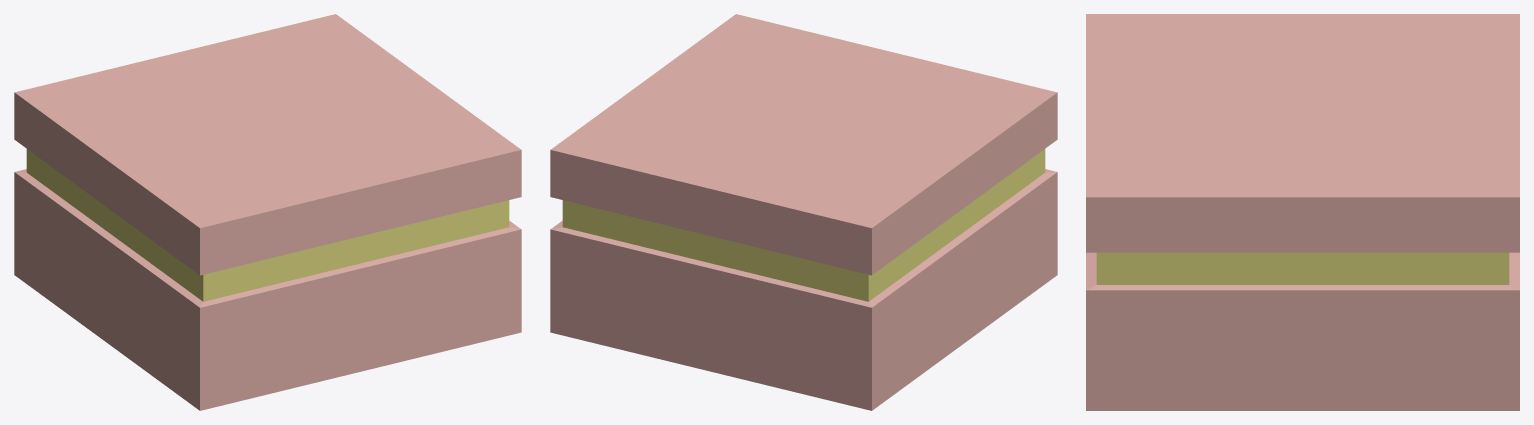
File: RepairPlatform.fbx
3 renders of one model, left to right at view 1: azimuth 30°, elevation 25°; view 2: azimuth 150°, elevation 25°; view 3: azimuth 270°, elevation 25°, orthographic. The views are drawn at different scales.
Parts seen in each view (by area): view 1: Cube.009; view 2: Cube.009; view 3: Cube.009.
Boxes of the visible parts, <box> form: Cube.009: <box>14,14,521,410</box>; Cube.009: <box>550,14,1057,410</box>; Cube.009: <box>1086,14,1519,410</box>.
Size of the model in its own units: 200 by 109 by 200.
